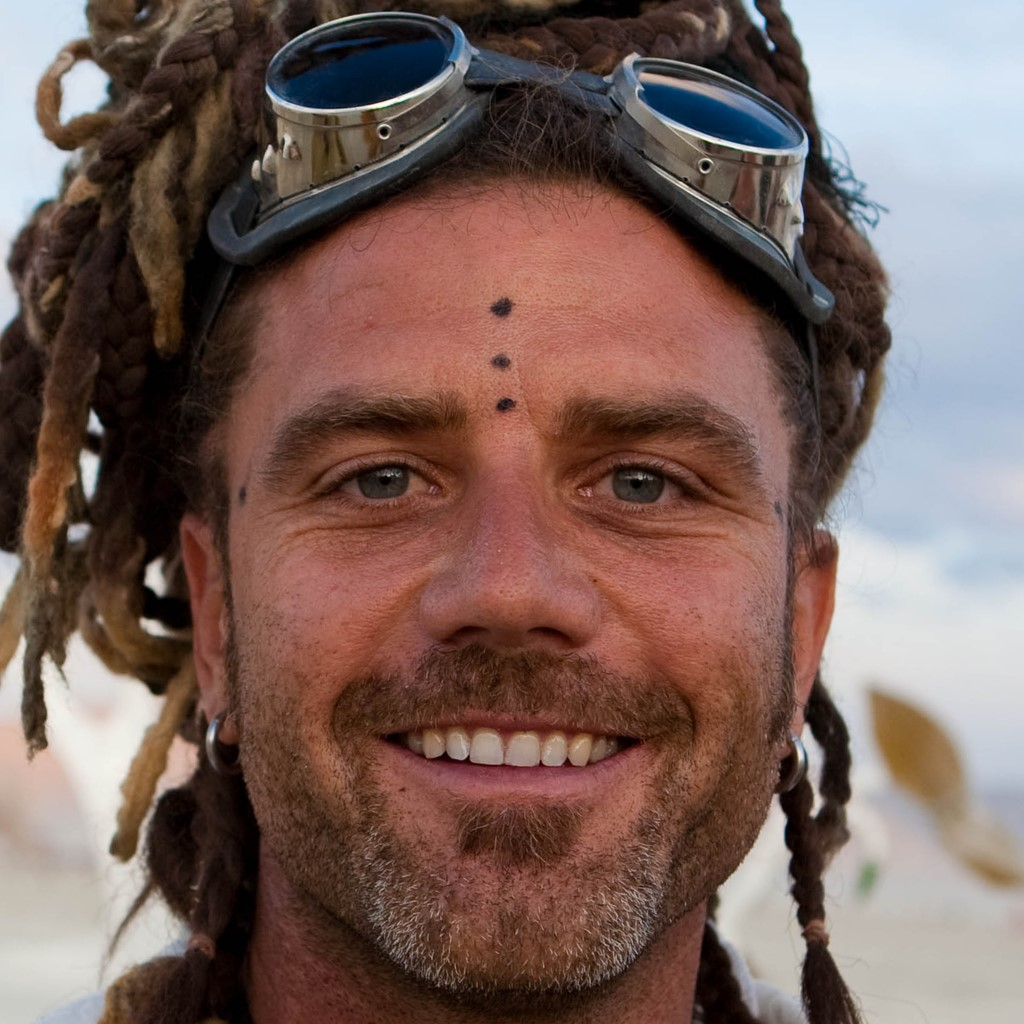sin_mascara: (210, 158, 832, 1010)
